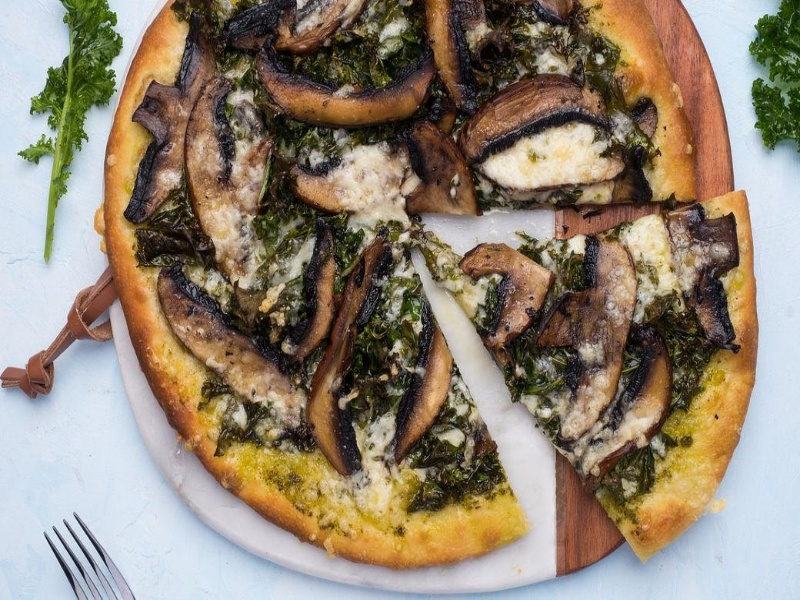champignon: (550, 238, 638, 433), (185, 79, 268, 275), (457, 69, 610, 169), (250, 58, 445, 130), (455, 241, 546, 354)
